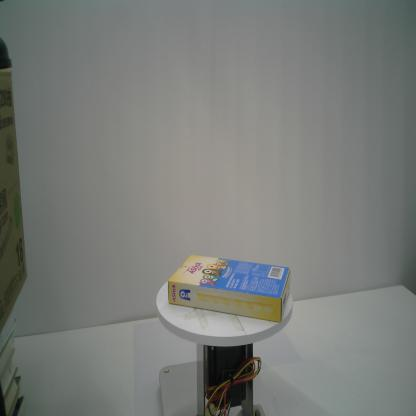Dessert: (168, 254, 291, 323)
